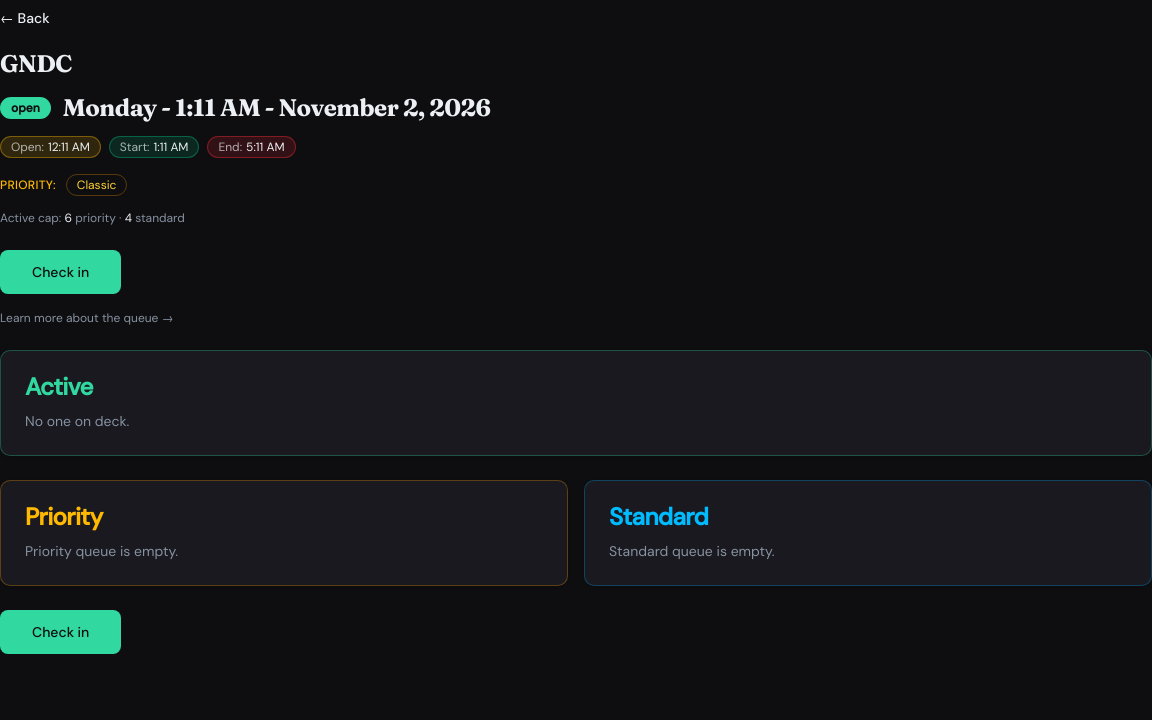
Test: SessionDetailPage — check-in song selector › falls back to all songs when event submissions cannot be loaded
Click the 1st button "Check in" at (61, 272), box [0,250,121,294]
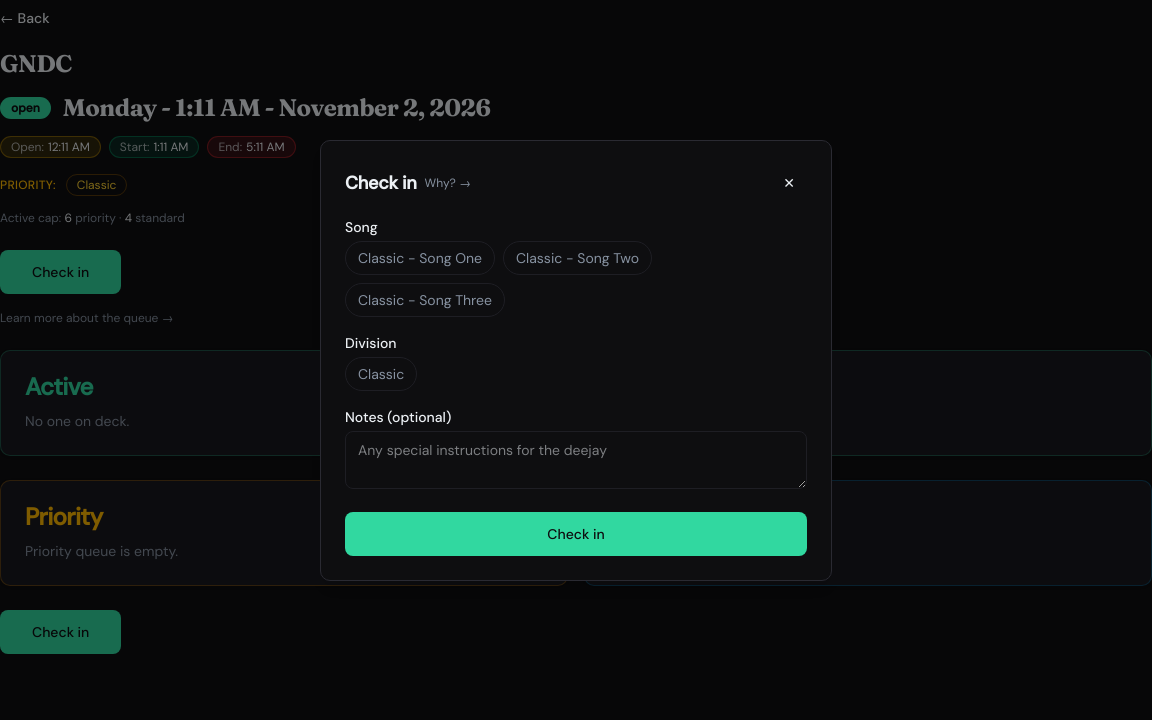
Expected: the element "Classic - Song One Classic - Song Two Classic - Song Three" is shown, [345,240,652,316]
Expected: the radio button labelled "Classic - Song One" is shown, [345,240,495,274]
Expected: the radio button labelled "Classic - Song Two" is shown, [503,240,652,274]
